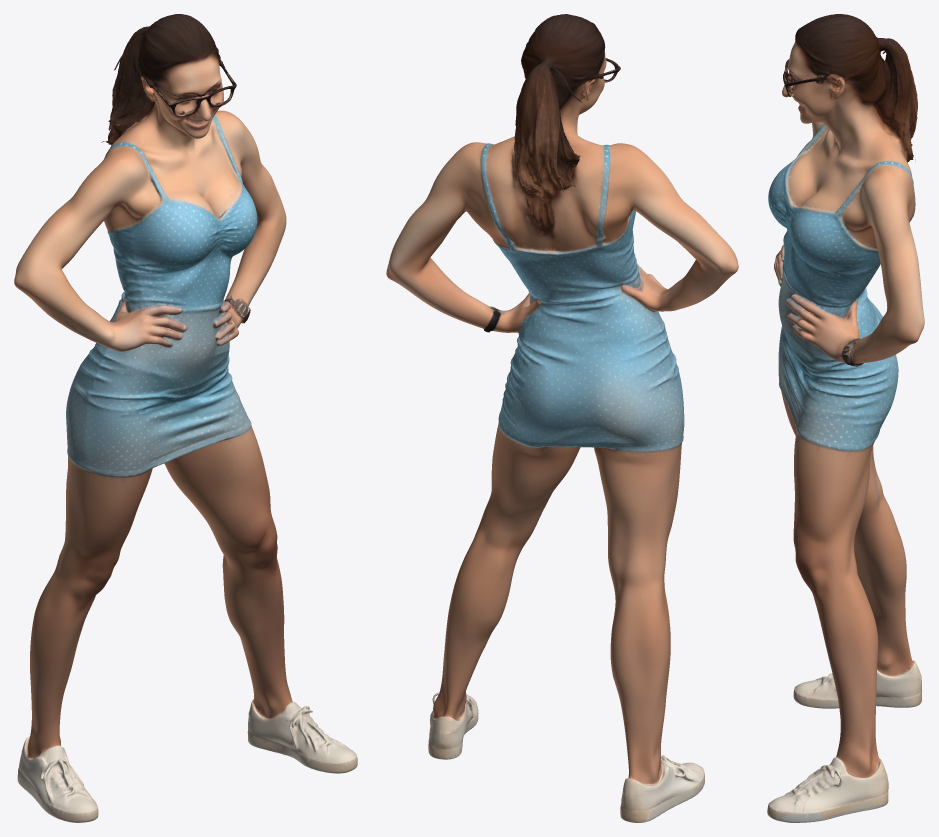
The model's file is skylar_breeze_a_casual_summer_character_scan.glb.
3 views of the same model, side by side, from view 1: azimuth 30°, elevation 25°; view 2: azimuth 150°, elevation 25°; view 3: azimuth 270°, elevation 25° (orthographic). The views are drawn at different scales.
Parts seen in each view (by area): view 1: Object_4, Object_5, Object_6; view 2: Object_5, Object_4, Object_6; view 3: Object_4, Object_5, Object_6.
Boxes of the visible parts, x1,y1,x2,y2 form: Object_4: (14,14,357,822); Object_5: (17,14,312,813); Object_6: (36,14,291,803); Object_5: (389,14,731,822); Object_4: (386,14,738,812); Object_6: (432,22,720,804); Object_4: (767,14,924,822); Object_5: (819,15,923,814); Object_6: (840,16,870,786).
Bounding box in the file's own units: 0.8344 × 1.9 × 0.3674.
Materials: 1 (1 with a texture image).
